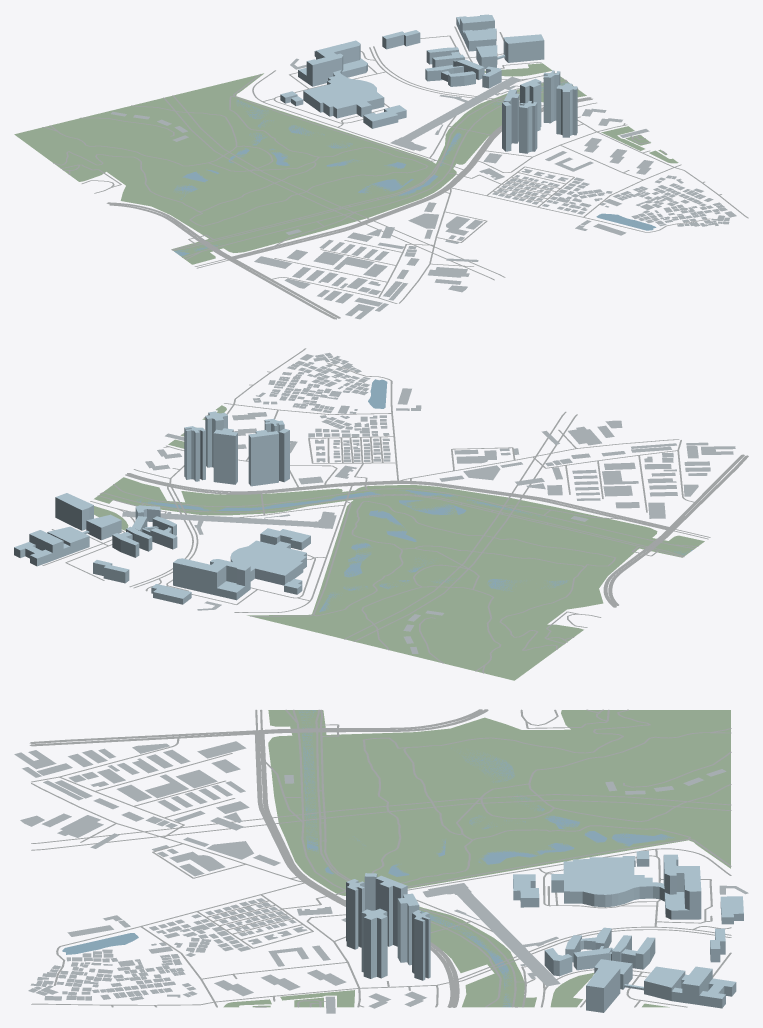
The model's file is -5_6-known-coarse.glb.
The picture shows the model from 3 angles, top to bottom: view 1: azimuth 30°, elevation 25°; view 2: azimuth 150°, elevation 25°; view 3: azimuth 270°, elevation 25°; orthographic projection. The views are drawn at different scales.
Bounding box in the file's own units: 1026 × 93 × 1046.
